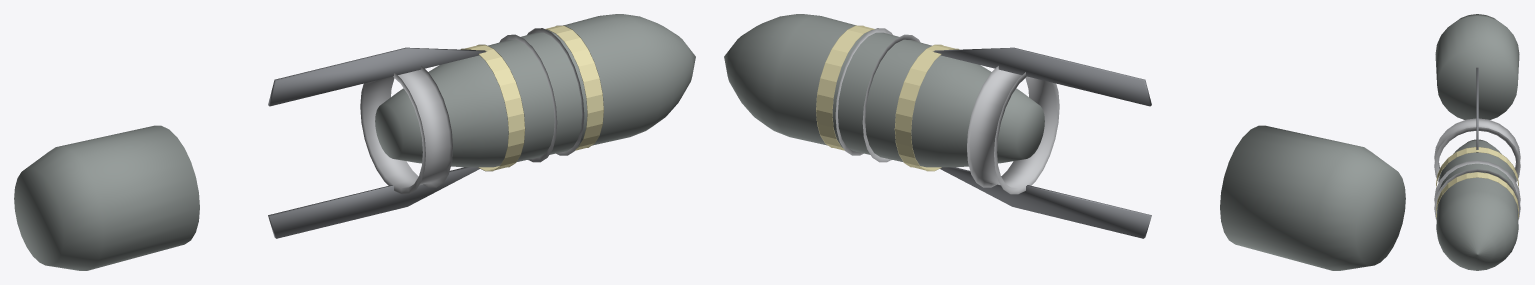
The model's file is RU_SLBM_R30_Bulava_LOD1.fbx.
3 renders of one model, left to right at view 1: azimuth 30°, elevation 25°; view 2: azimuth 150°, elevation 25°; view 3: azimuth 270°, elevation 25°, orthographic. The views are drawn at different scales.
Visible parts, largest first — view 1: WPN_RU_SLBM_R30_Bulava_LOD1_Body, WPN_RU_SLBM_R30_Bulava_LOD1_Tail, WPN_RU_SLBM_R30_Bulava_LOD1_Detail, WPN_RU_SLBM_R30_Bulava_LOD1_Marking; view 2: WPN_RU_SLBM_R30_Bulava_LOD1_Body, WPN_RU_SLBM_R30_Bulava_LOD1_Tail, WPN_RU_SLBM_R30_Bulava_LOD1_Detail, WPN_RU_SLBM_R30_Bulava_LOD1_Marking; view 3: WPN_RU_SLBM_R30_Bulava_LOD1_Body, WPN_RU_SLBM_R30_Bulava_LOD1_Tail, WPN_RU_SLBM_R30_Bulava_LOD1_Detail, WPN_RU_SLBM_R30_Bulava_LOD1_Marking.
Part boxes in pixels (bbox=[...]): WPN_RU_SLBM_R30_Bulava_LOD1_Body: bbox=[375, 14, 695, 167]; WPN_RU_SLBM_R30_Bulava_LOD1_Tail: bbox=[14, 125, 199, 270]; WPN_RU_SLBM_R30_Bulava_LOD1_Detail: bbox=[268, 28, 584, 238]; WPN_RU_SLBM_R30_Bulava_LOD1_Marking: bbox=[460, 25, 603, 171]; WPN_RU_SLBM_R30_Bulava_LOD1_Body: bbox=[724, 14, 1044, 167]; WPN_RU_SLBM_R30_Bulava_LOD1_Tail: bbox=[1220, 125, 1405, 270]; WPN_RU_SLBM_R30_Bulava_LOD1_Detail: bbox=[835, 28, 1151, 238]; WPN_RU_SLBM_R30_Bulava_LOD1_Marking: bbox=[816, 25, 959, 171]; WPN_RU_SLBM_R30_Bulava_LOD1_Body: bbox=[1436, 139, 1518, 270]; WPN_RU_SLBM_R30_Bulava_LOD1_Tail: bbox=[1435, 14, 1519, 119]; WPN_RU_SLBM_R30_Bulava_LOD1_Detail: bbox=[1434, 67, 1520, 219]; WPN_RU_SLBM_R30_Bulava_LOD1_Marking: bbox=[1436, 147, 1518, 218].
Bounding box in the file's own units: 12.1 × 2.1 × 2.78.
